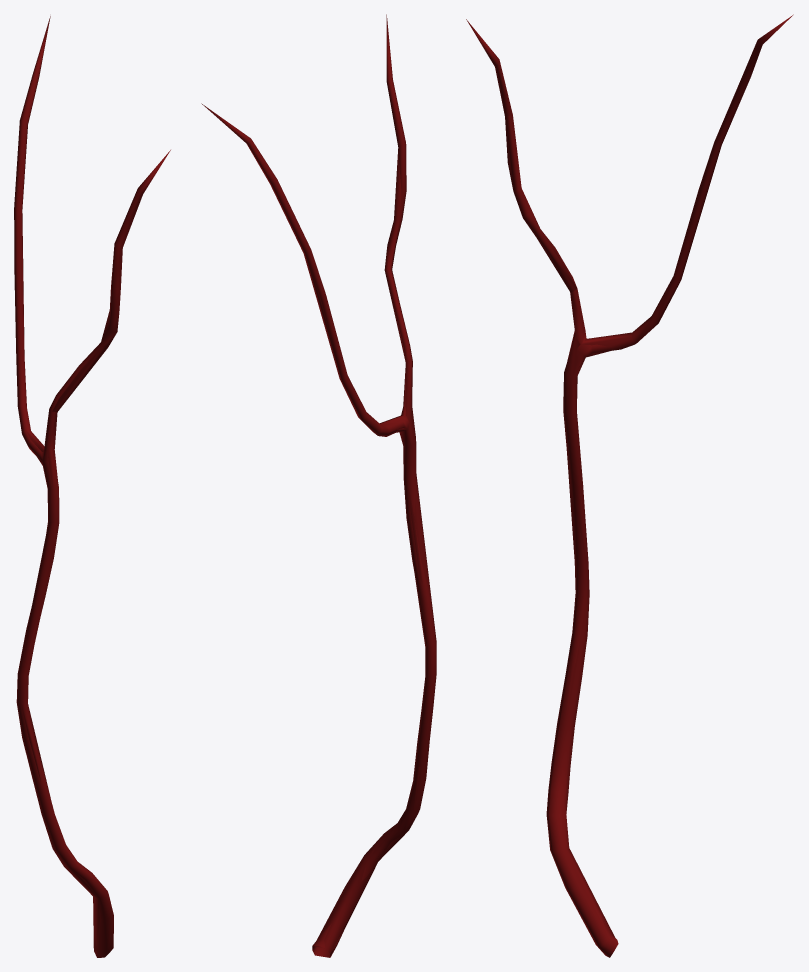
Rendered from scapularis dorsalis.fbx.
The picture shows the model from 3 angles, left to right: view 1: azimuth 30°, elevation 25°; view 2: azimuth 150°, elevation 25°; view 3: azimuth 270°, elevation 25°; orthographic projection. The views are drawn at different scales.
Parts seen in each view (by area): view 1: scapularis dorsalis, scapularis dorsalis low; view 2: scapularis dorsalis, scapularis dorsalis low; view 3: scapularis dorsalis, scapularis dorsalis low.
Part boxes in pixels (x1,y1,x2,y2): scapularis dorsalis: (14,16,170,957); scapularis dorsalis low: (18,84,141,957); scapularis dorsalis: (201,14,436,955); scapularis dorsalis low: (255,149,436,957); scapularis dorsalis: (466,14,793,957); scapularis dorsalis low: (496,45,761,945).
Bounding box in the file's own units: 2.96 × 19.08 × 5.93.
